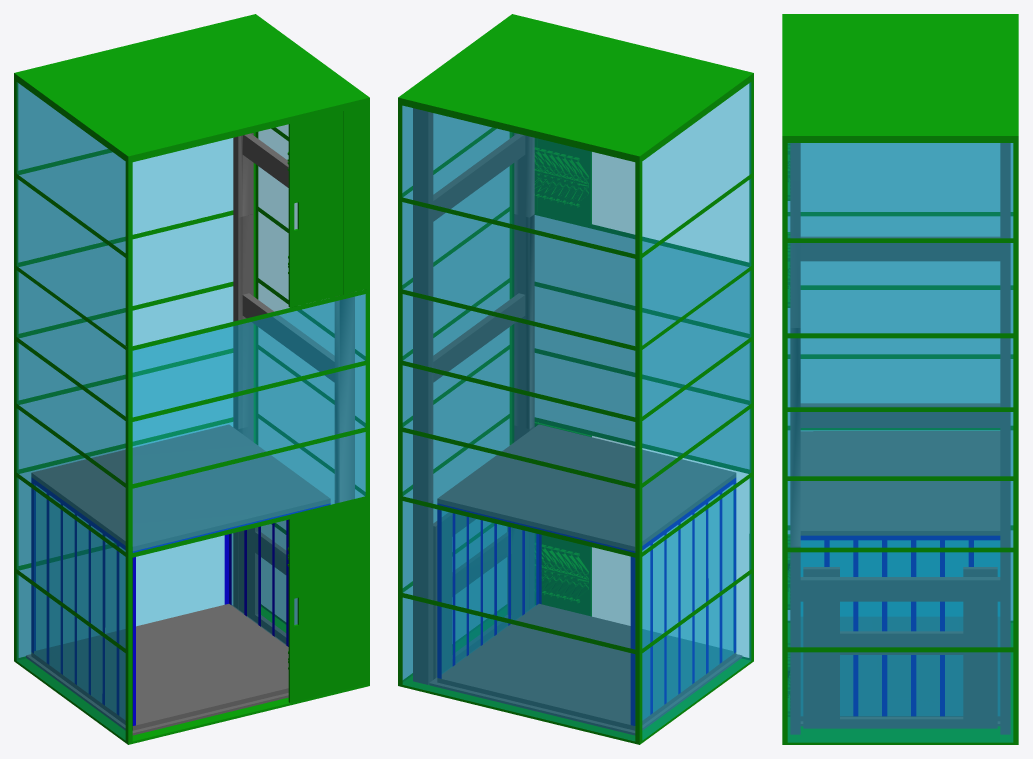
The model's file is Lift 2.fbx.
The picture shows the model from 3 angles, left to right: view 1: azimuth 30°, elevation 25°; view 2: azimuth 150°, elevation 25°; view 3: azimuth 270°, elevation 25°; orthographic projection. The views are drawn at different scales.
Parts seen in each view (by area): view 1: Bone cord.M, Bone cord.U, Basket, Bone cord.D, Door.D, Door.U, Prop.M, Stand, Prop.U, Prop.D; view 2: Bone cord.M, Bone cord.U, Bone cord.D, Basket, Prop.M, Prop.U, Stand, Prop.D, Door.U, Door.D; view 3: Bone cord.U, Bone cord.M, Bone cord.D, Basket, Stand, Prop.D, Prop.M, Prop.U, Door.D, Door.U.
Boxes of the visible parts, bbox=[...] form: Bone cord.M: bbox=[14, 205, 369, 558]; Bone cord.U: bbox=[14, 14, 369, 347]; Basket: bbox=[31, 424, 330, 730]; Bone cord.D: bbox=[14, 416, 369, 744]; Door.D: bbox=[287, 501, 365, 702]; Door.U: bbox=[287, 105, 365, 307]; Prop.M: bbox=[233, 214, 354, 502]; Stand: bbox=[26, 527, 288, 735]; Prop.U: bbox=[233, 133, 288, 217]; Prop.D: bbox=[233, 426, 338, 609]; Bone cord.M: bbox=[398, 205, 753, 558]; Bone cord.U: bbox=[398, 14, 753, 347]; Bone cord.D: bbox=[398, 416, 753, 744]; Basket: bbox=[437, 424, 736, 730]; Prop.M: bbox=[413, 214, 534, 502]; Prop.U: bbox=[413, 108, 534, 291]; Stand: bbox=[429, 514, 742, 735]; Prop.D: bbox=[413, 425, 534, 684]; Door.U: bbox=[534, 138, 591, 224]; Door.D: bbox=[534, 422, 591, 616]; Bone cord.U: bbox=[782, 14, 1018, 333]; Bone cord.M: bbox=[782, 212, 1018, 552]; Bone cord.D: bbox=[782, 430, 1018, 744]; Basket: bbox=[800, 431, 1000, 721]; Stand: bbox=[800, 567, 1000, 728]; Prop.D: bbox=[790, 546, 1010, 734]; Prop.M: bbox=[790, 328, 1010, 546]; Prop.U: bbox=[790, 143, 1010, 327]; Door.D: bbox=[787, 534, 790, 716]; Door.U: bbox=[787, 143, 790, 307].
Bounding box in the file's own units: 515 × 1199 × 422.
